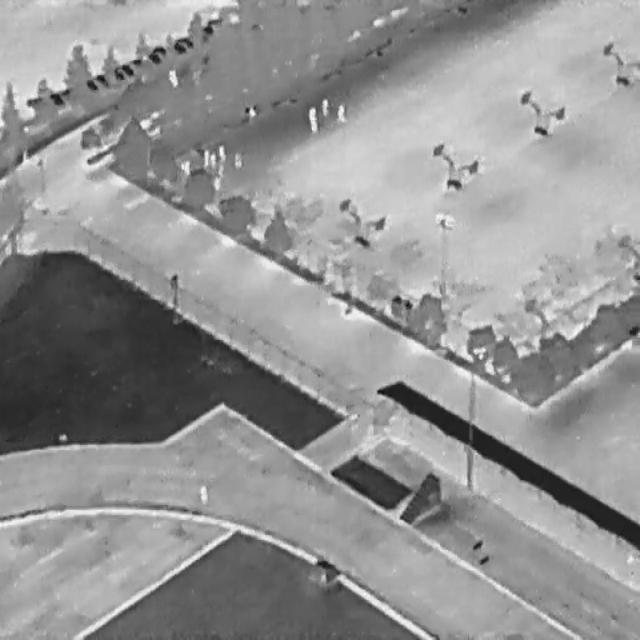Car: (23, 89, 49, 122), (45, 84, 67, 114), (108, 60, 128, 85), (92, 66, 112, 90), (82, 72, 100, 96), (118, 56, 136, 80), (57, 80, 75, 102), (170, 36, 187, 56), (144, 48, 161, 66), (177, 35, 193, 47), (130, 54, 143, 66), (153, 43, 166, 55)
Person: (307, 105, 319, 134), (197, 484, 209, 505), (216, 142, 228, 162), (336, 101, 346, 124), (180, 158, 190, 178), (232, 150, 243, 168), (320, 96, 328, 118), (207, 150, 216, 169), (201, 148, 209, 168), (212, 175, 221, 191)
